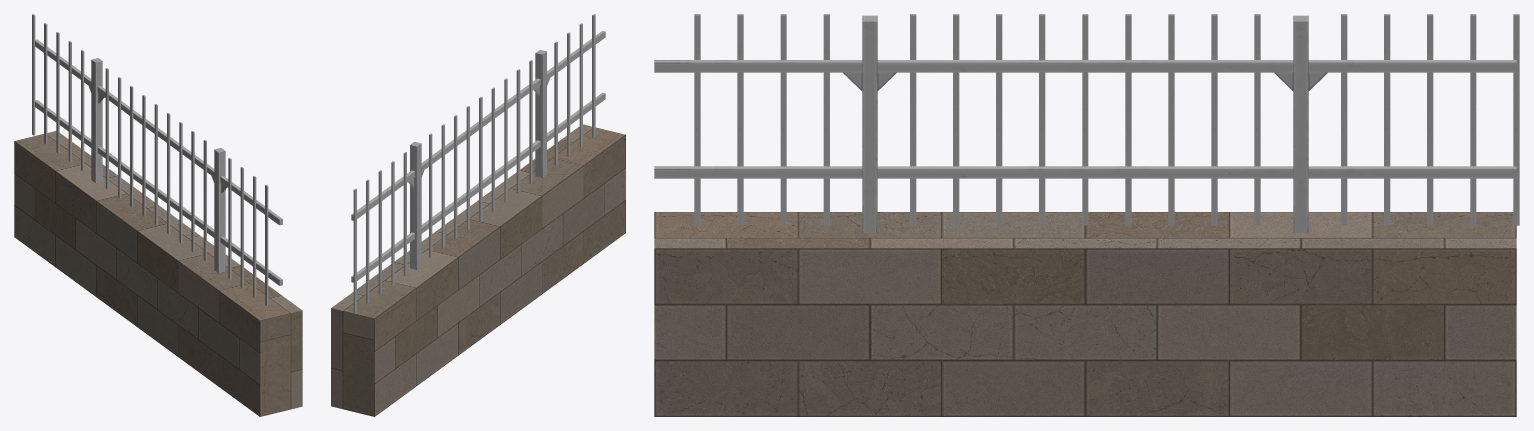
Rendered from MB_Fence_A_4m.fbx.
3 views of the same model, side by side, from view 1: azimuth 30°, elevation 25°; view 2: azimuth 150°, elevation 25°; view 3: azimuth 270°, elevation 25° (orthographic). The views are drawn at different scales.
Visible parts, largest first — view 1: MB_Fence_A_4m_LOD0; view 2: MB_Fence_A_4m_LOD0; view 3: MB_Fence_A_4m_LOD0.
Boxes of the visible parts, box(x1,y1,x2,y2) form: MB_Fence_A_4m_LOD0: box(14, 14, 302, 416); MB_Fence_A_4m_LOD0: box(331, 14, 625, 416); MB_Fence_A_4m_LOD0: box(654, 14, 1519, 416).
Size of what is drawn, in the model's own units: 40 by 196 by 401.
